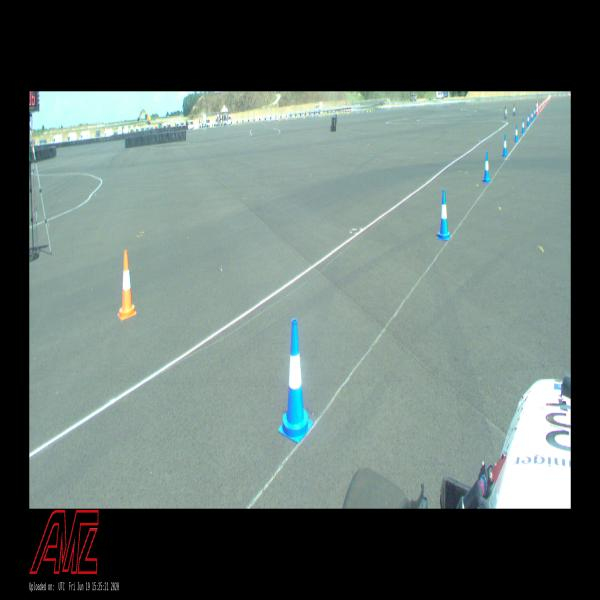blue_cone: (278, 318, 313, 444), (437, 190, 451, 240), (482, 152, 490, 184), (502, 134, 508, 158), (514, 124, 519, 142), (522, 118, 526, 133), (526, 114, 530, 126), (531, 110, 534, 121), (533, 108, 536, 118)
large_orange_cone: (536, 101, 538, 116)
orange_cone: (118, 250, 136, 320)
